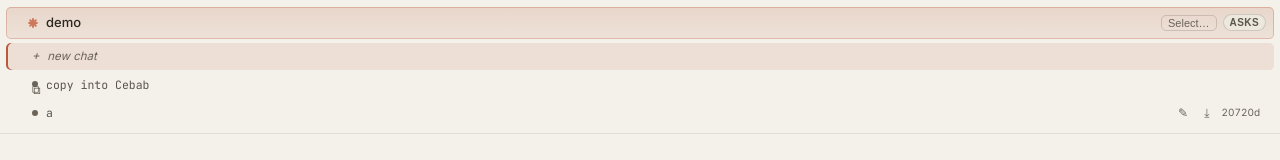
Scenario: ProjectList — entering select mode › count starts at 0 and is announced via aria-live
Click the button with class "session-select-toggle" at x=1189, y=23, box [1161,15,1217,31]
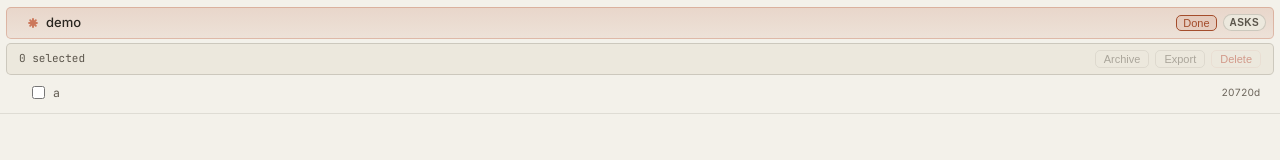
Check: the text with class "bulk-action-count" reads "0 selected", box [19,50,85,67]
